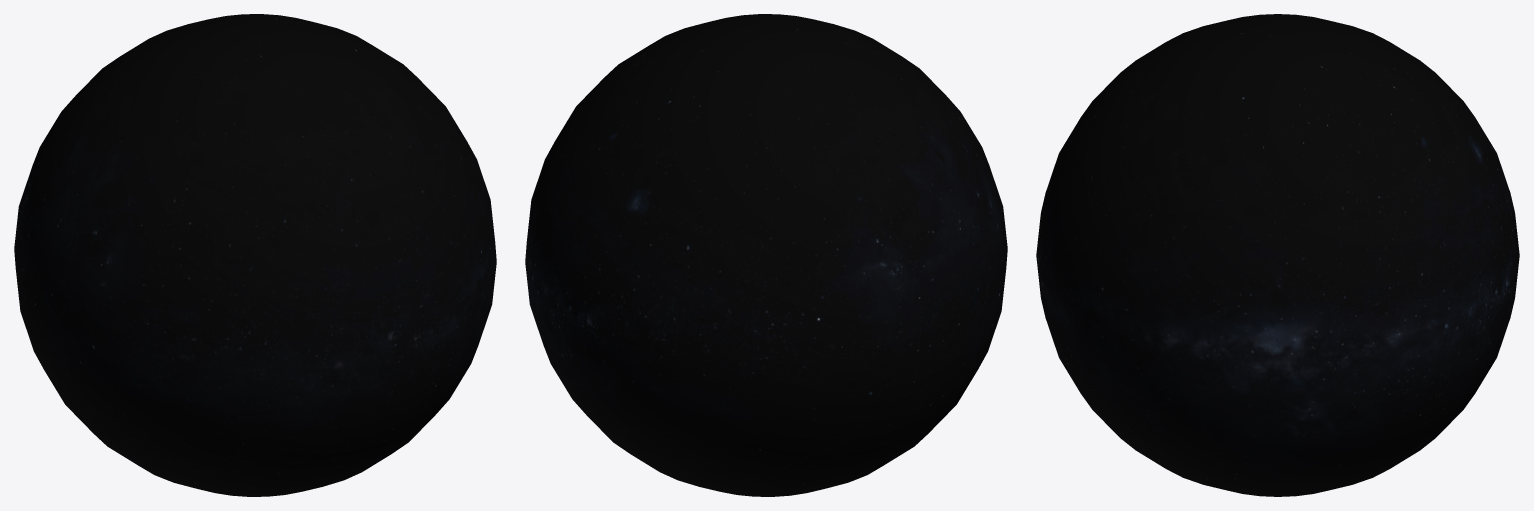
The model's file is solar_system_real_scale_2k_textures.glb.
The picture shows the model from 3 angles, left to right: view 1: azimuth 30°, elevation 25°; view 2: azimuth 150°, elevation 25°; view 3: azimuth 270°, elevation 25°; orthographic projection.
Visible parts, largest first — view 1: Sphere_15; view 2: Sphere_15; view 3: Sphere_15.
Boxes of the visible parts, <box> form: Sphere_15: <box>14,14,496,496</box>; Sphere_15: <box>525,14,1007,496</box>; Sphere_15: <box>1036,14,1519,496</box>.
Bounding box in the file's own units: 2000 × 2000 × 2000.
16 materials, 15 textured.
